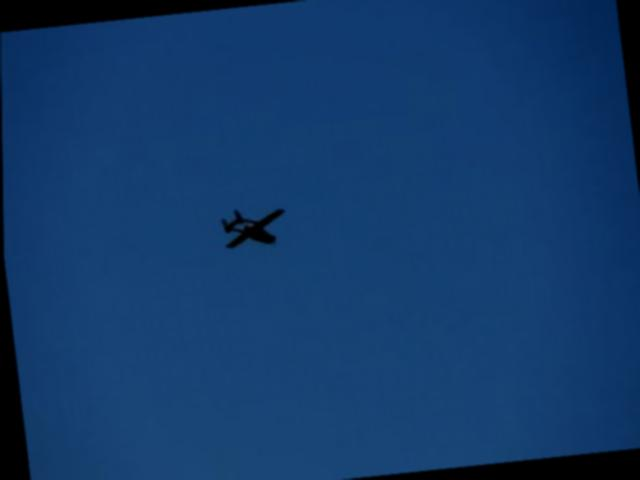uav: (211, 196, 292, 256)
